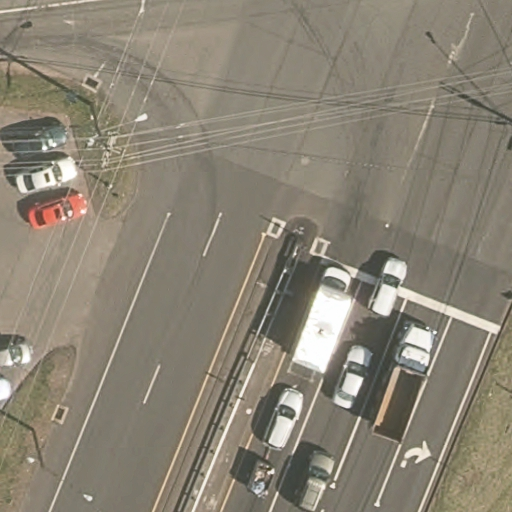DT: (75, 95, 132, 177)
